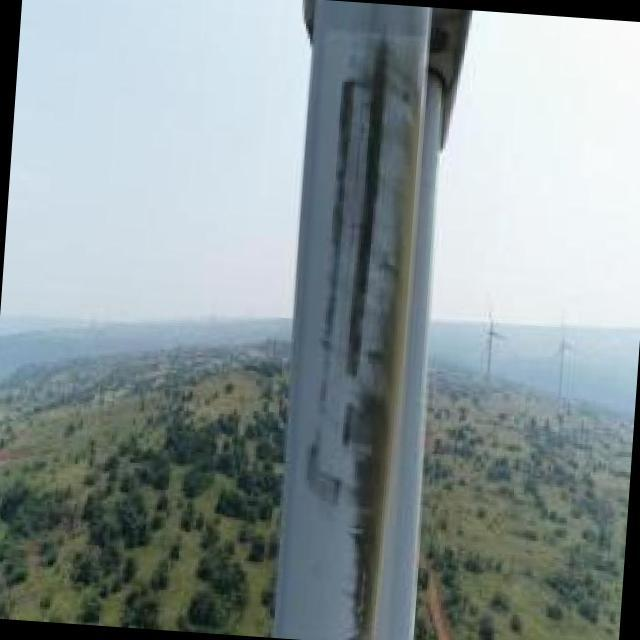Dirt: (297, 21, 428, 640)
Pin Hole: (305, 438, 325, 461), (396, 84, 412, 106)
